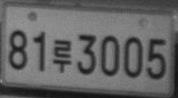0: (123, 35, 143, 79), (100, 34, 120, 76)
1: (31, 30, 51, 71)
3: (76, 34, 96, 75)
5: (146, 38, 166, 79)
8: (8, 29, 28, 70)
루: (52, 39, 71, 74)
